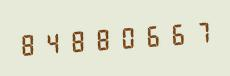eight: (17, 26, 40, 61), (89, 21, 112, 56), (65, 23, 88, 57)
four: (41, 25, 64, 59)
seven: (185, 15, 208, 49)
six: (161, 16, 184, 51), (137, 18, 160, 52)
zero: (113, 20, 136, 54)
